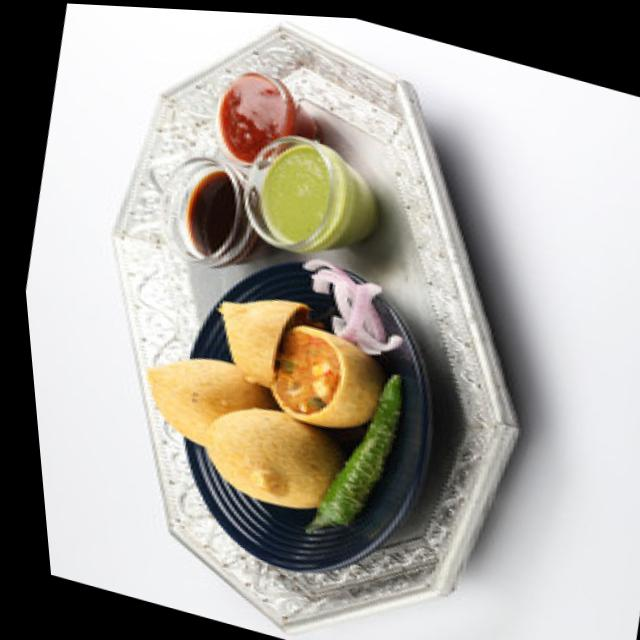BONDA: (144, 297, 381, 507)
GREEN CHUTNEY: (256, 143, 331, 243)
RED CHUTNEY: (219, 72, 286, 159), (183, 171, 236, 255)
